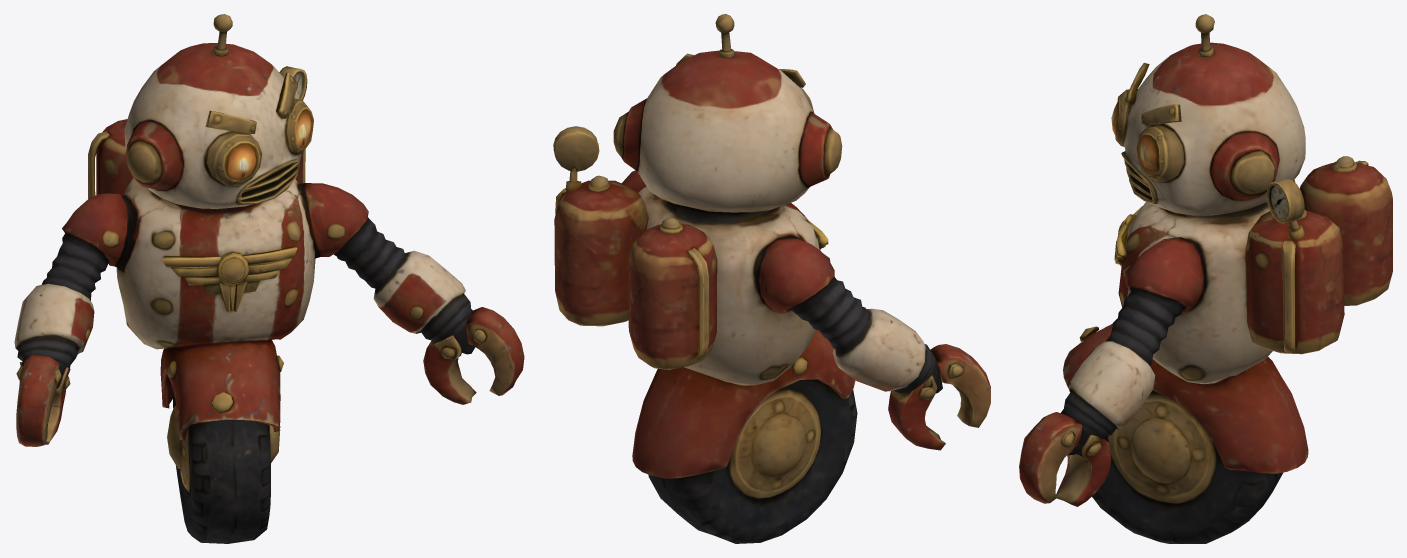
File: Monowheel Robot Texture.glb
The picture shows the model from 3 angles, left to right: view 1: azimuth 30°, elevation 25°; view 2: azimuth 150°, elevation 25°; view 3: azimuth 270°, elevation 25°; orthographic projection. The views are drawn at different scales.
Visible parts, largest first — view 1: geometry_0; view 2: geometry_0; view 3: geometry_0.
Part boxes in pixels (x1=…): geometry_0: x1=14, y1=14, x2=524, y2=543; geometry_0: x1=553, y1=14, x2=990, y2=543; geometry_0: x1=1019, y1=14, x2=1392, y2=543.
Bounding box in the file's own units: 0.8887 × 0.9517 × 0.6108.
Materials: 1 (1 with a texture image).
